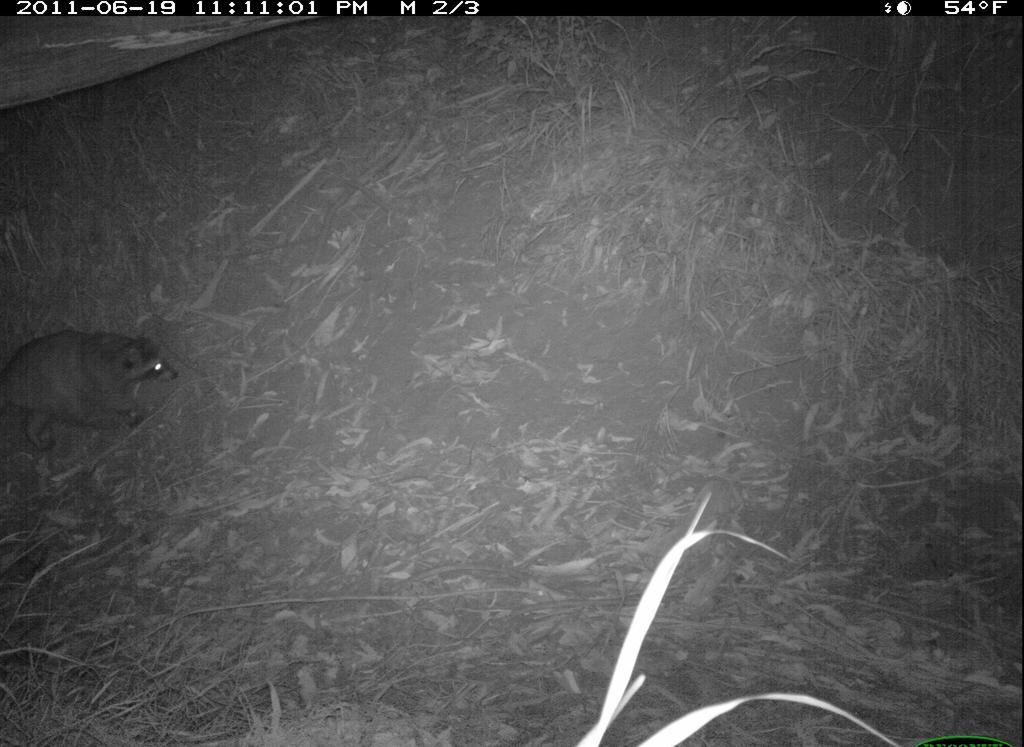raccoon: (3, 318, 193, 474)
